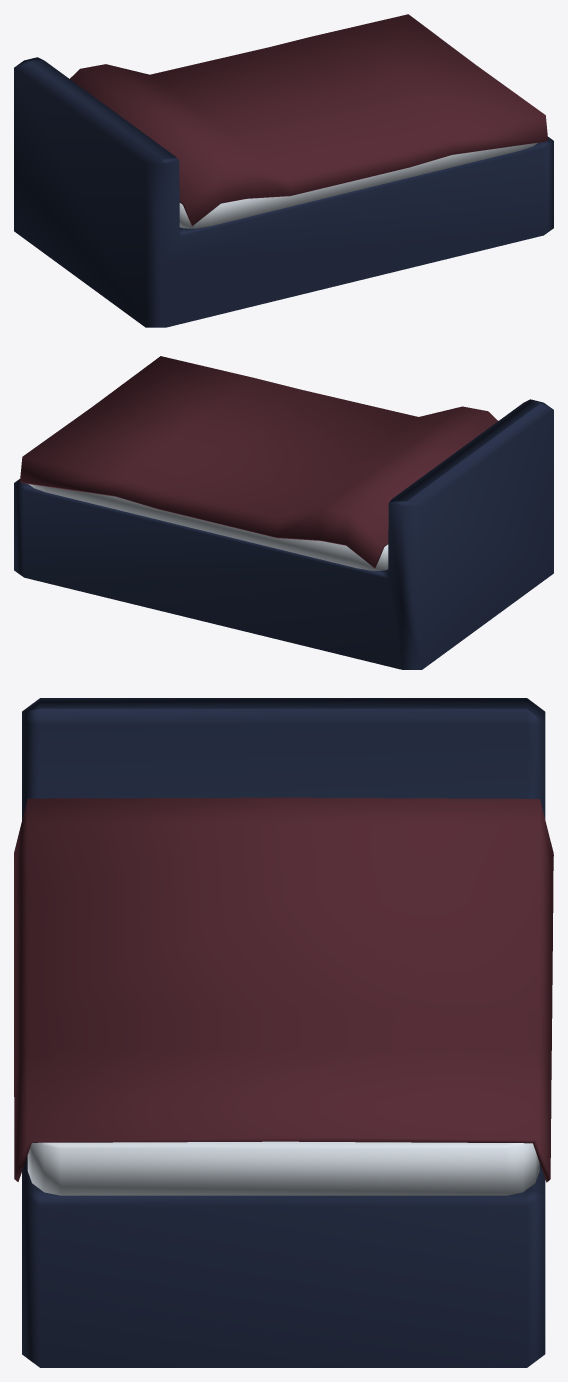
The model's file is krevet.fbx.
3 views of the same model, one above another, from view 1: azimuth 30°, elevation 25°; view 2: azimuth 150°, elevation 25°; view 3: azimuth 270°, elevation 25° (orthographic). The views are drawn at different scales.
Parts seen in each view (by area): view 1: Cube; view 2: Cube; view 3: Cube.
Boxes of the visible parts, x1,y1,x2,y2 form: Cube: (14,14,553,327); Cube: (14,356,553,669); Cube: (14,698,553,1367).
Size of the model in its own units: 333 by 129 by 206.
1 material, 1 textured.
